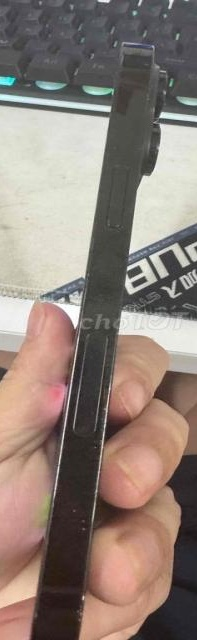scratch: (117, 45, 180, 119), (68, 500, 98, 640), (83, 379, 116, 461)
